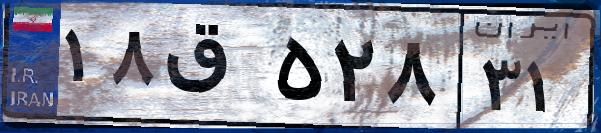1: (57, 26, 110, 100), (525, 38, 570, 115)
2: (330, 28, 385, 110)
3: (475, 38, 525, 113)
5: (270, 28, 330, 110)
8: (385, 28, 445, 110), (110, 28, 158, 98)
ق: (158, 20, 270, 120)
